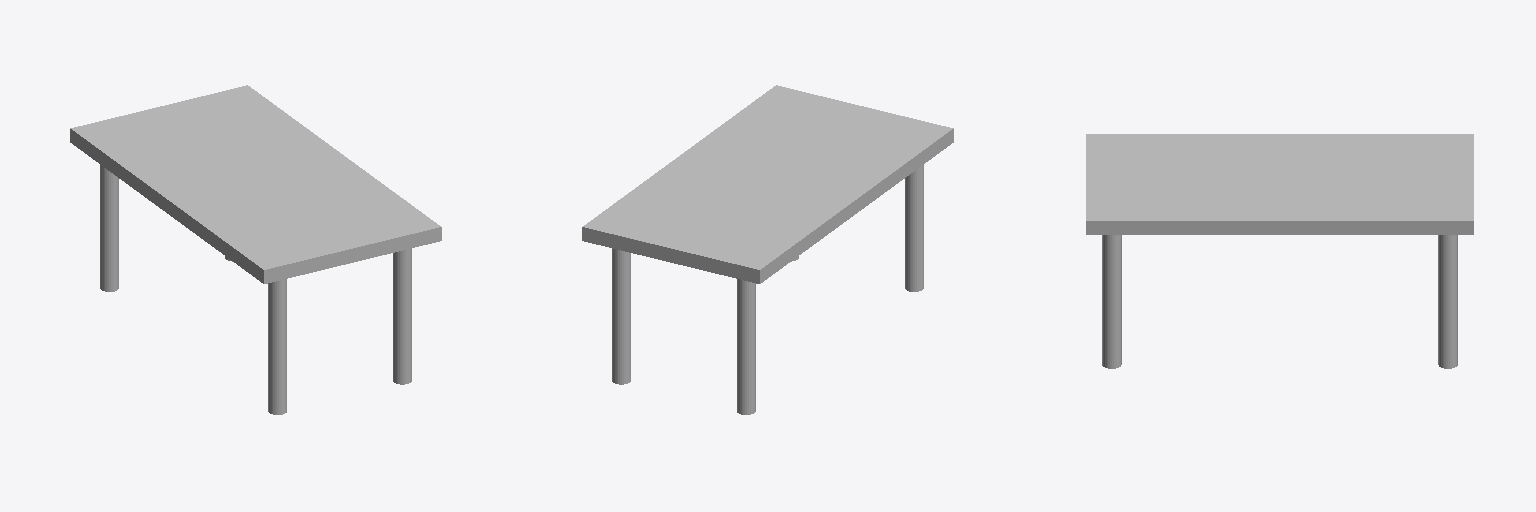
Rendered from mixleg.obj.
3 renders of one model, left to right at view 1: azimuth 30°, elevation 25°; view 2: azimuth 150°, elevation 25°; view 3: azimuth 270°, elevation 25°, orthographic.
Parts seen in each view (by area): view 1: Mesh01, Mesh03; view 2: Mesh01, Mesh03; view 3: Mesh01, Mesh03.
Boxes of the visible parts, box(x1,y1,x2,y2) form: Mesh01: box(70, 85, 441, 283); Mesh03: box(100, 165, 411, 414); Mesh01: box(582, 85, 953, 283); Mesh03: box(612, 165, 923, 414); Mesh01: box(1086, 134, 1473, 234); Mesh03: box(1102, 235, 1457, 368).
Size of the model in its own units: 4.27 by 3.6 by 8.07.